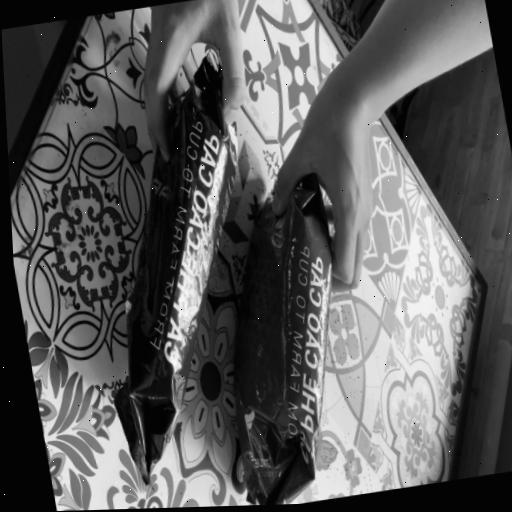cafe_hat: (114, 54, 237, 478)
cafe_xay: (233, 174, 331, 505)
